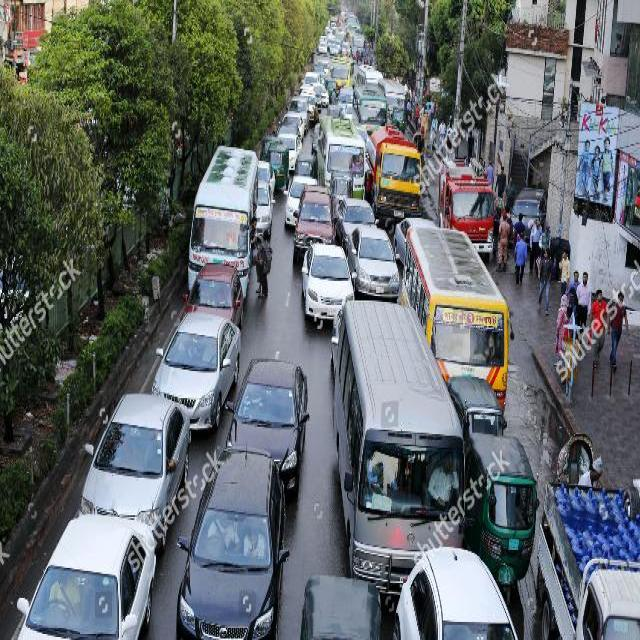Bus: (329, 297, 466, 607), (395, 216, 511, 413)
Car: (175, 443, 289, 639), (14, 511, 157, 638)
